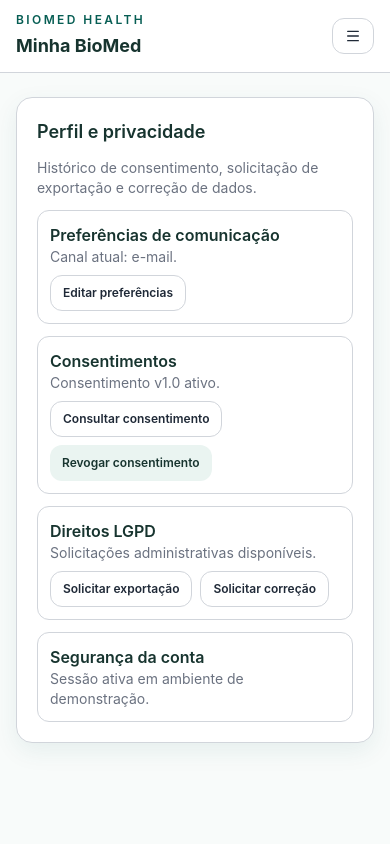
Scenario: refinamentos de UX nos ambientes › solicita confirmação ao revogar consentimento
Click the button "Revogar consentimento": (131, 463) [50, 445, 212, 481]
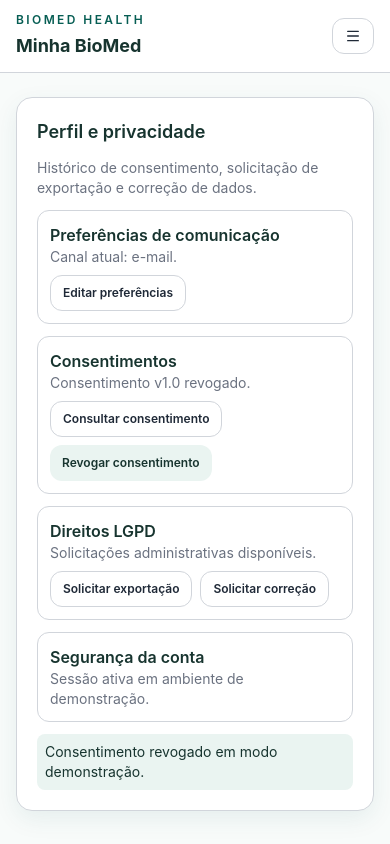
Now the text "Consentimento revogado em modo demonstração." is shown, box [37, 734, 353, 790]
